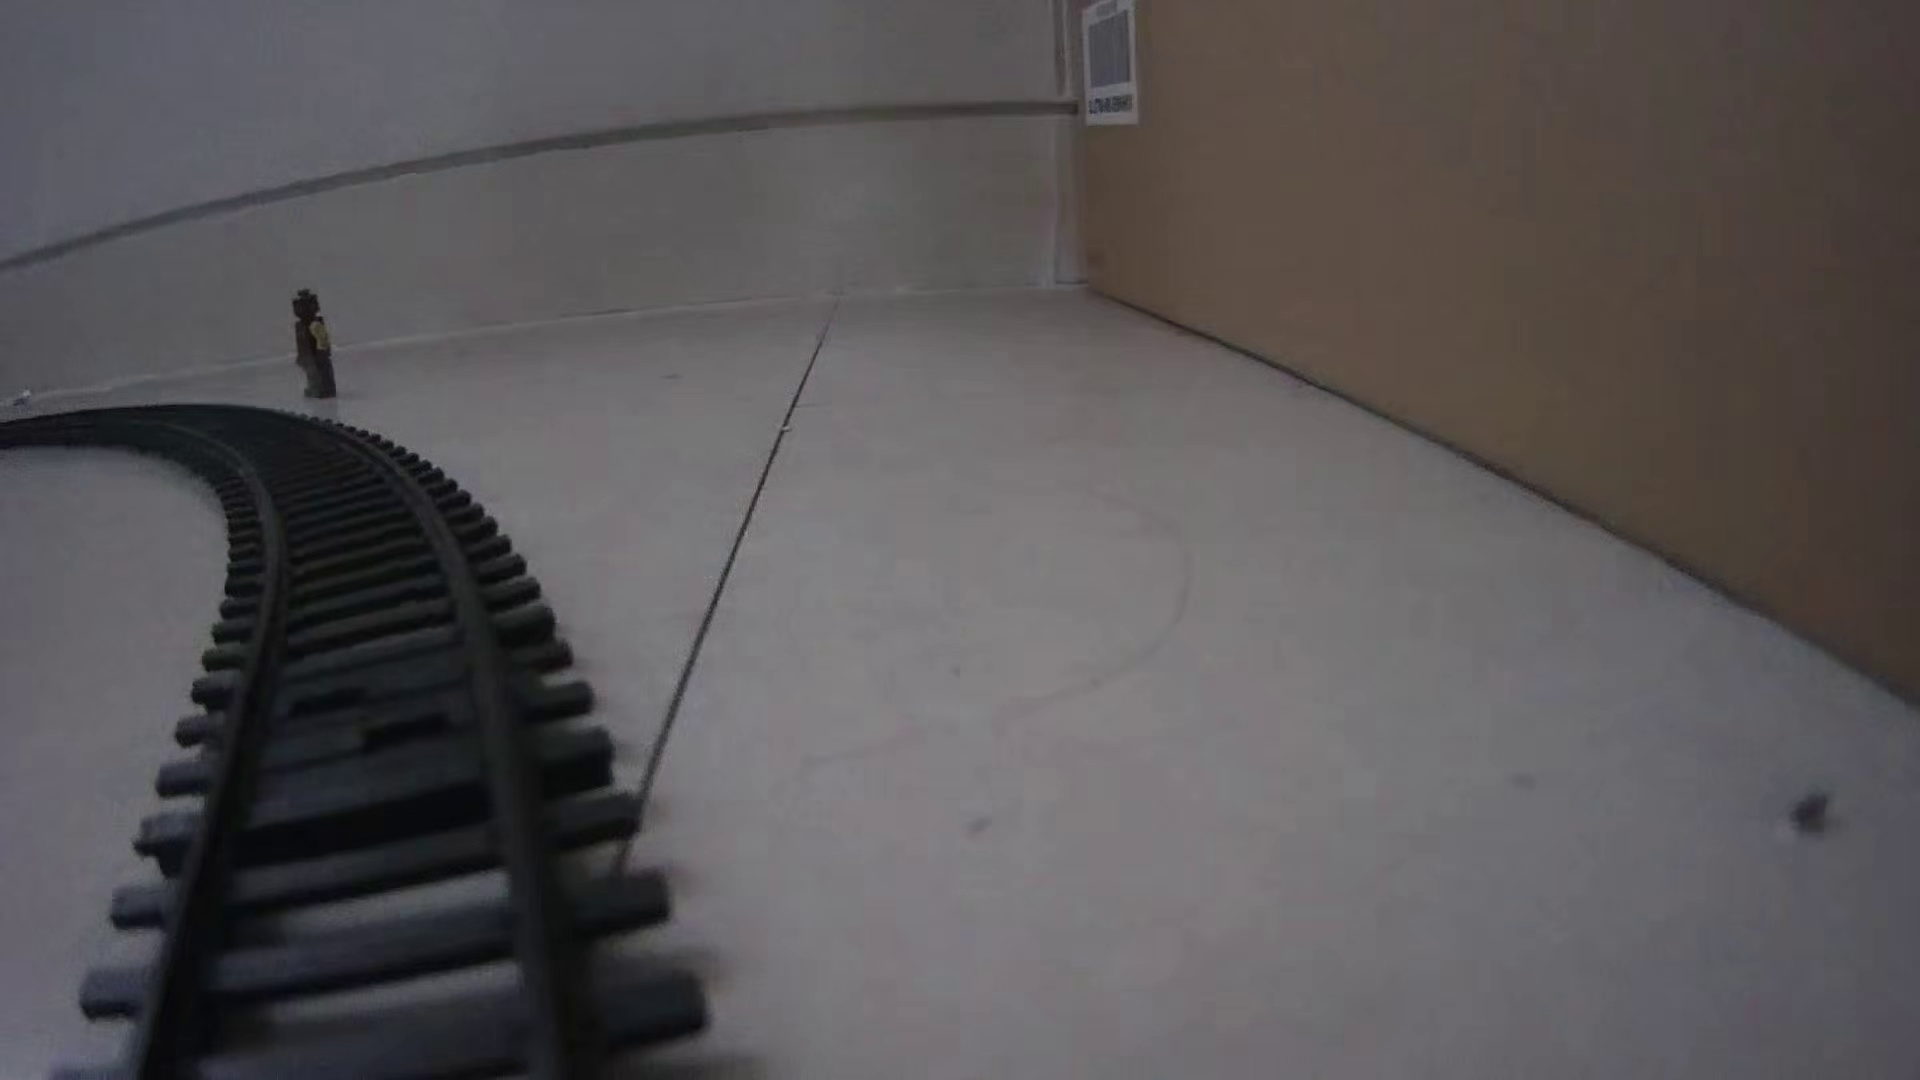people: (292, 285, 339, 403)
